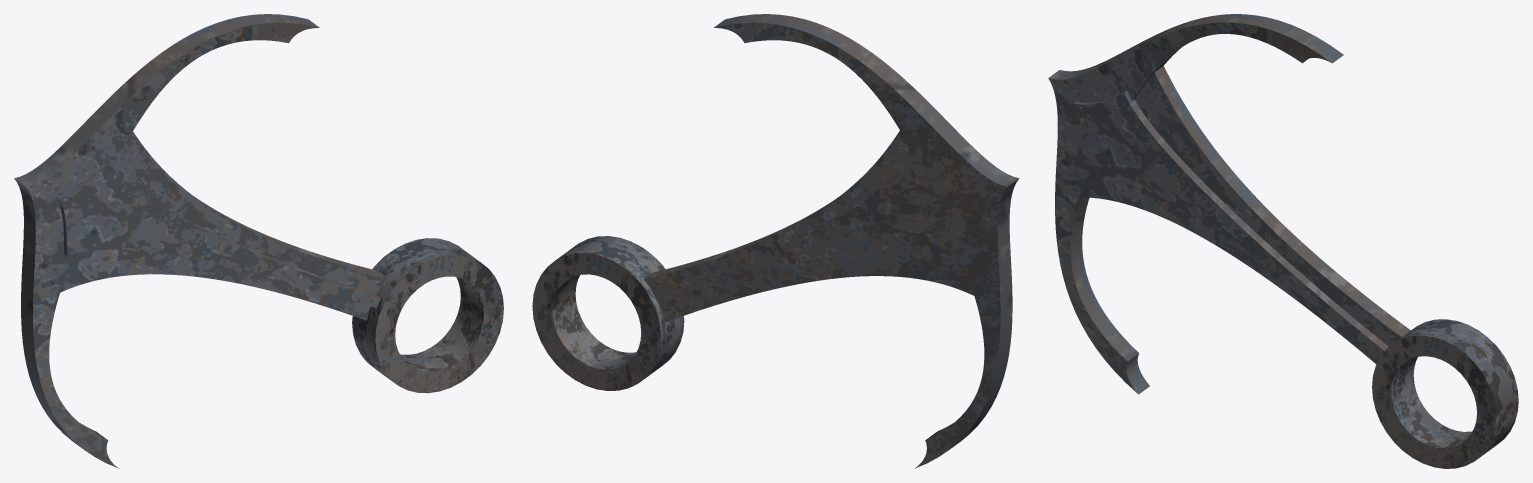
File: Anchor.fbx
3 renders of one model, left to right at view 1: azimuth 30°, elevation 25°; view 2: azimuth 150°, elevation 25°; view 3: azimuth 330°, elevation 25°, orthographic. The views are drawn at different scales.
Parts seen in each view (by area): view 1: Tube_1; view 2: Tube_1; view 3: Tube_1.
Boxes of the visible parts, bbox=[...] form: Tube_1: bbox=[14, 14, 503, 468]; Tube_1: bbox=[532, 14, 1019, 468]; Tube_1: bbox=[1048, 14, 1518, 468].
Bounding box in the file's own units: 5700 × 4759 × 488.
1 material, 1 textured.
